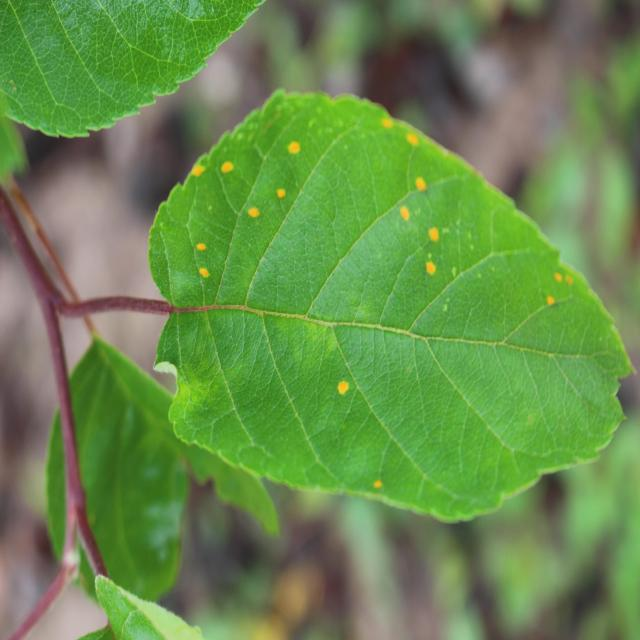Rust: (326, 356, 356, 421), (362, 464, 390, 508), (406, 162, 436, 201), (420, 215, 448, 252), (216, 148, 243, 185), (272, 176, 292, 222), (540, 290, 562, 328), (393, 196, 419, 228), (284, 126, 307, 160), (242, 192, 262, 228), (378, 106, 399, 139), (420, 256, 442, 287), (192, 262, 219, 287), (399, 132, 427, 155), (190, 154, 209, 185), (556, 264, 580, 288), (189, 228, 210, 253), (546, 262, 563, 287)
